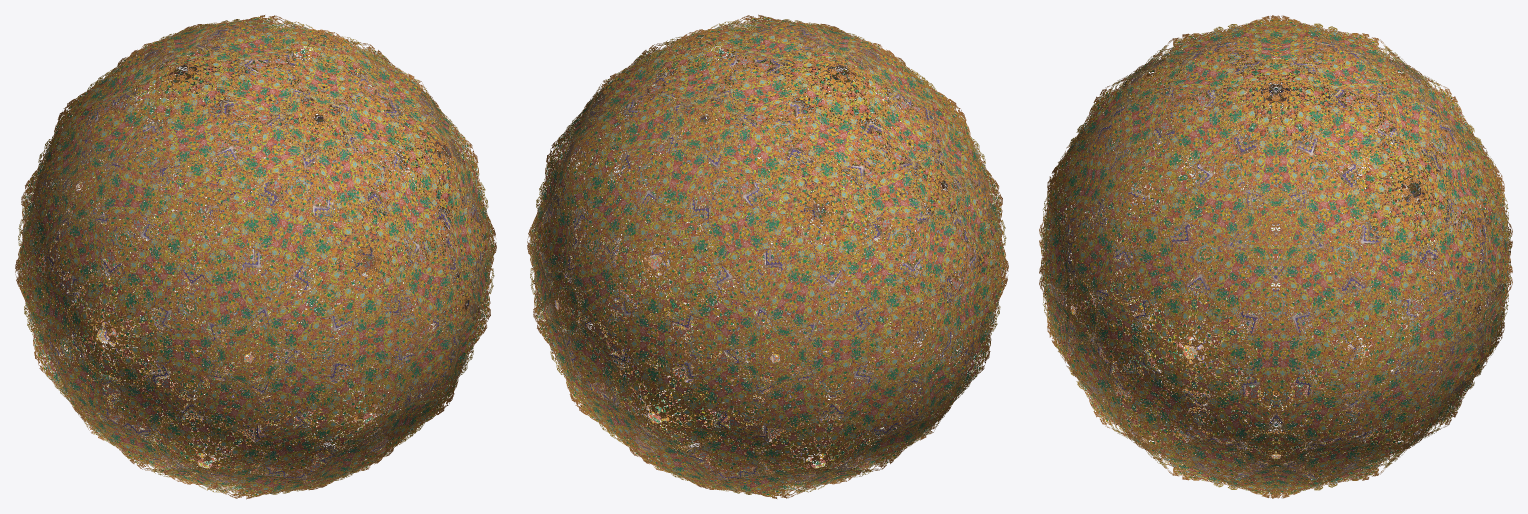
The model's file is SmallHexagonalHexecontahedron6.gltf.
3 renders of one model, left to right at view 1: azimuth 30°, elevation 25°; view 2: azimuth 150°, elevation 25°; view 3: azimuth 270°, elevation 25°, orthographic.
Visible parts, largest first — view 1: SmallHexagonalHexecontahedron; view 2: SmallHexagonalHexecontahedron; view 3: SmallHexagonalHexecontahedron.
Boxes of the visible parts, x1,y1,x2,y2 form: SmallHexagonalHexecontahedron: (15, 15, 496, 499); SmallHexagonalHexecontahedron: (527, 14, 1008, 498); SmallHexagonalHexecontahedron: (1039, 15, 1512, 498).
Bounding box in the file's own units: 2.73 × 2.73 × 2.73.
1 material, 1 textured.
